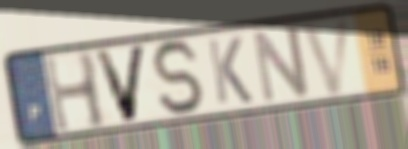H: (40, 49, 111, 137)
K: (204, 34, 255, 107)
N: (250, 22, 312, 107)
S: (149, 38, 210, 118)
V: (90, 41, 150, 125), (298, 14, 355, 99)
